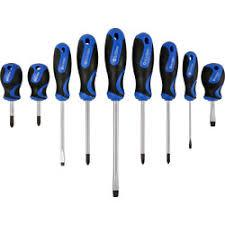screwdriver: (103, 26, 127, 197), (75, 32, 99, 165), (131, 31, 153, 164), (50, 40, 70, 165), (158, 40, 178, 163), (181, 50, 198, 149), (199, 59, 224, 126), (26, 62, 50, 126), (0, 61, 22, 127)
